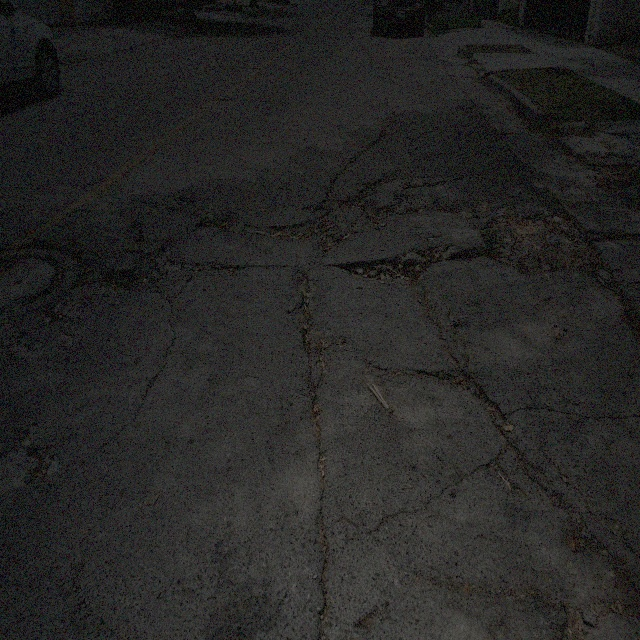pothole: (484, 193, 610, 290), (1, 416, 66, 502), (338, 242, 443, 285), (468, 378, 511, 428), (354, 174, 392, 228), (1, 320, 46, 363), (314, 195, 347, 252), (69, 246, 103, 288), (274, 217, 316, 242), (106, 266, 140, 292), (202, 211, 237, 236), (46, 306, 68, 323), (60, 331, 74, 350)
